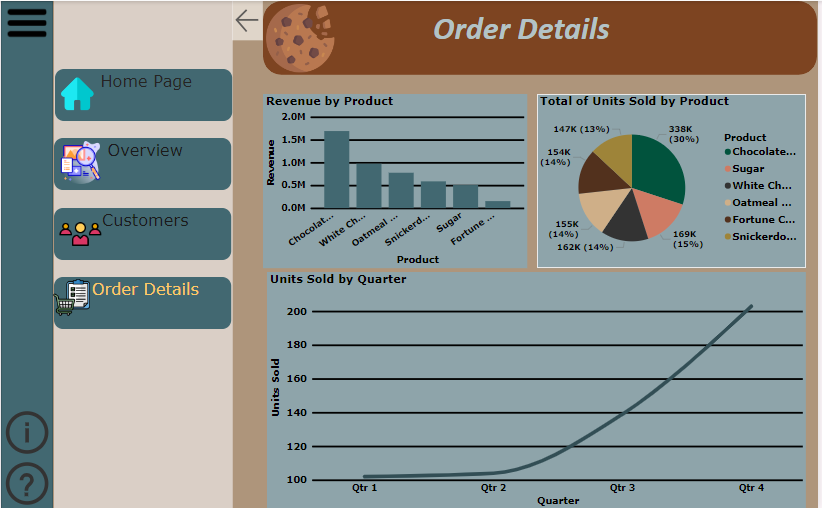

The page's visual inventory and layout, read from the dashboard file:
{"tool":"powerbi","page":{"name":"Order Details","canvas":[1350,840],"ordinal":3},"visuals":[{"type":"shape","box":[0,0,86,840],"z":0,"group":"g2"},{"type":"group","id":"g1","title":"Menu Object","box":[79.4,0,353.9,840],"z":0},{"type":"actionButton","title":"Close button","box":[382.1,0,51.2,65],"z":0,"group":"g1"},{"type":"actionButton","title":"Overview","box":[88.4,226.8,292.8,86],"z":0,"group":"g3"},{"type":"group","id":"g2","title":"menu bar","box":[0,0,86,840],"z":1000},{"type":"shape","title":"Flyout Shape","box":[87.6,0,295.6,840],"z":1000,"group":"g1"},{"type":"actionButton","title":"    Order Details","box":[88.4,456.7,292.8,86],"z":1000,"group":"g3"},{"type":"actionButton","title":"Q/A","box":[0,755.7,86,84.3],"z":1000,"group":"g2"},{"type":"group","id":"g3","title":"Home page","box":[79.4,112.7,302.2,429.1],"z":2000,"group":"g1"},{"type":"actionButton","title":"Customers","box":[88.4,342.6,292.8,86],"z":2000,"group":"g3"},{"type":"lineChart","fields":{"Category":["Orders.Date.Variation.Date Hierarchy.Quarter"],"Y":["Dax Measures.Units Sold"]},"box":[439.8,448.1,891.3,391.9],"z":2000},{"type":"actionButton","title":"Information","box":[0,671.3,86,84.3],"z":2000,"group":"g2"},{"type":"actionButton","title":"Menu","box":[0,0,86,72.8],"z":3000,"group":"g2"},{"type":"actionButton","title":"Home Page","box":[89.6,112.7,292.8,86],"z":3000,"group":"g3"},{"type":"columnChart","fields":{"Category":["Orders.Product"],"Y":["Dax Measures.Revenue"]},"box":[433.2,153.8,436.5,287.7],"z":3000},{"type":"pieChart","fields":{"Category":["Orders.Product"],"Y":["Sum(Orders.Units Sold)"]},"box":[886.3,153.8,444.8,287.7],"z":4000},{"type":"image","box":[79.4,451,74.7,77.7],"z":4000,"group":"g3"},{"type":"shape","box":[433.2,0,916.1,122.4],"z":5000},{"type":"image","box":[89.6,342.6,84.2,86],"z":5000,"group":"g3"},{"type":"image","box":[423.6,0,143.3,122.8],"z":6000},{"type":"image","box":[89.6,226.8,84.2,81],"z":6000,"group":"g3"},{"type":"textbox","box":[672,7.4,378,92.9],"z":7000},{"type":"image","box":[94.4,112.7,64,81],"z":7000,"group":"g3"}]}

Visuals, with their boxes in screenshot pixels (x1, y1, x2, y2), scaled from the page's 1350x840 canvas onto the 822x508 screenshot:
shape: crop(0, 0, 52, 507)
"Menu Object" group: crop(48, 0, 264, 507)
"Close button" actionButton: crop(233, 0, 264, 39)
"Overview" actionButton: crop(54, 137, 232, 189)
"menu bar" group: crop(0, 0, 52, 507)
"Flyout Shape" shape: crop(53, 0, 233, 507)
"    Order Details" actionButton: crop(54, 276, 232, 328)
"Q/A" actionButton: crop(0, 457, 52, 507)
"Home page" group: crop(48, 68, 232, 328)
"Customers" actionButton: crop(54, 207, 232, 259)
lineChart - Orders.Date.Variation.Date Hierarchy.Quarter x Dax Measures.Units Sold: crop(268, 271, 810, 507)
"Information" actionButton: crop(0, 406, 52, 457)
"Menu" actionButton: crop(0, 0, 52, 44)
"Home Page" actionButton: crop(55, 68, 233, 120)
columnChart - Orders.Product x Dax Measures.Revenue: crop(264, 93, 530, 267)
pieChart - Orders.Product x Sum(Orders.Units Sold): crop(540, 93, 810, 267)
image: crop(48, 273, 94, 320)
shape: crop(264, 0, 821, 74)
image: crop(55, 207, 106, 259)
image: crop(258, 0, 345, 74)
image: crop(55, 137, 106, 186)
textbox: crop(409, 4, 639, 61)
image: crop(57, 68, 96, 117)
